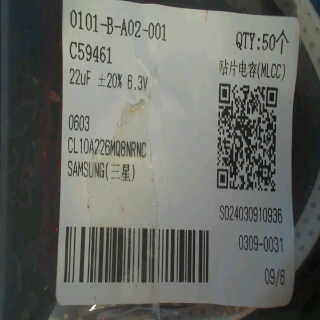22uF: (67, 66, 97, 88)
